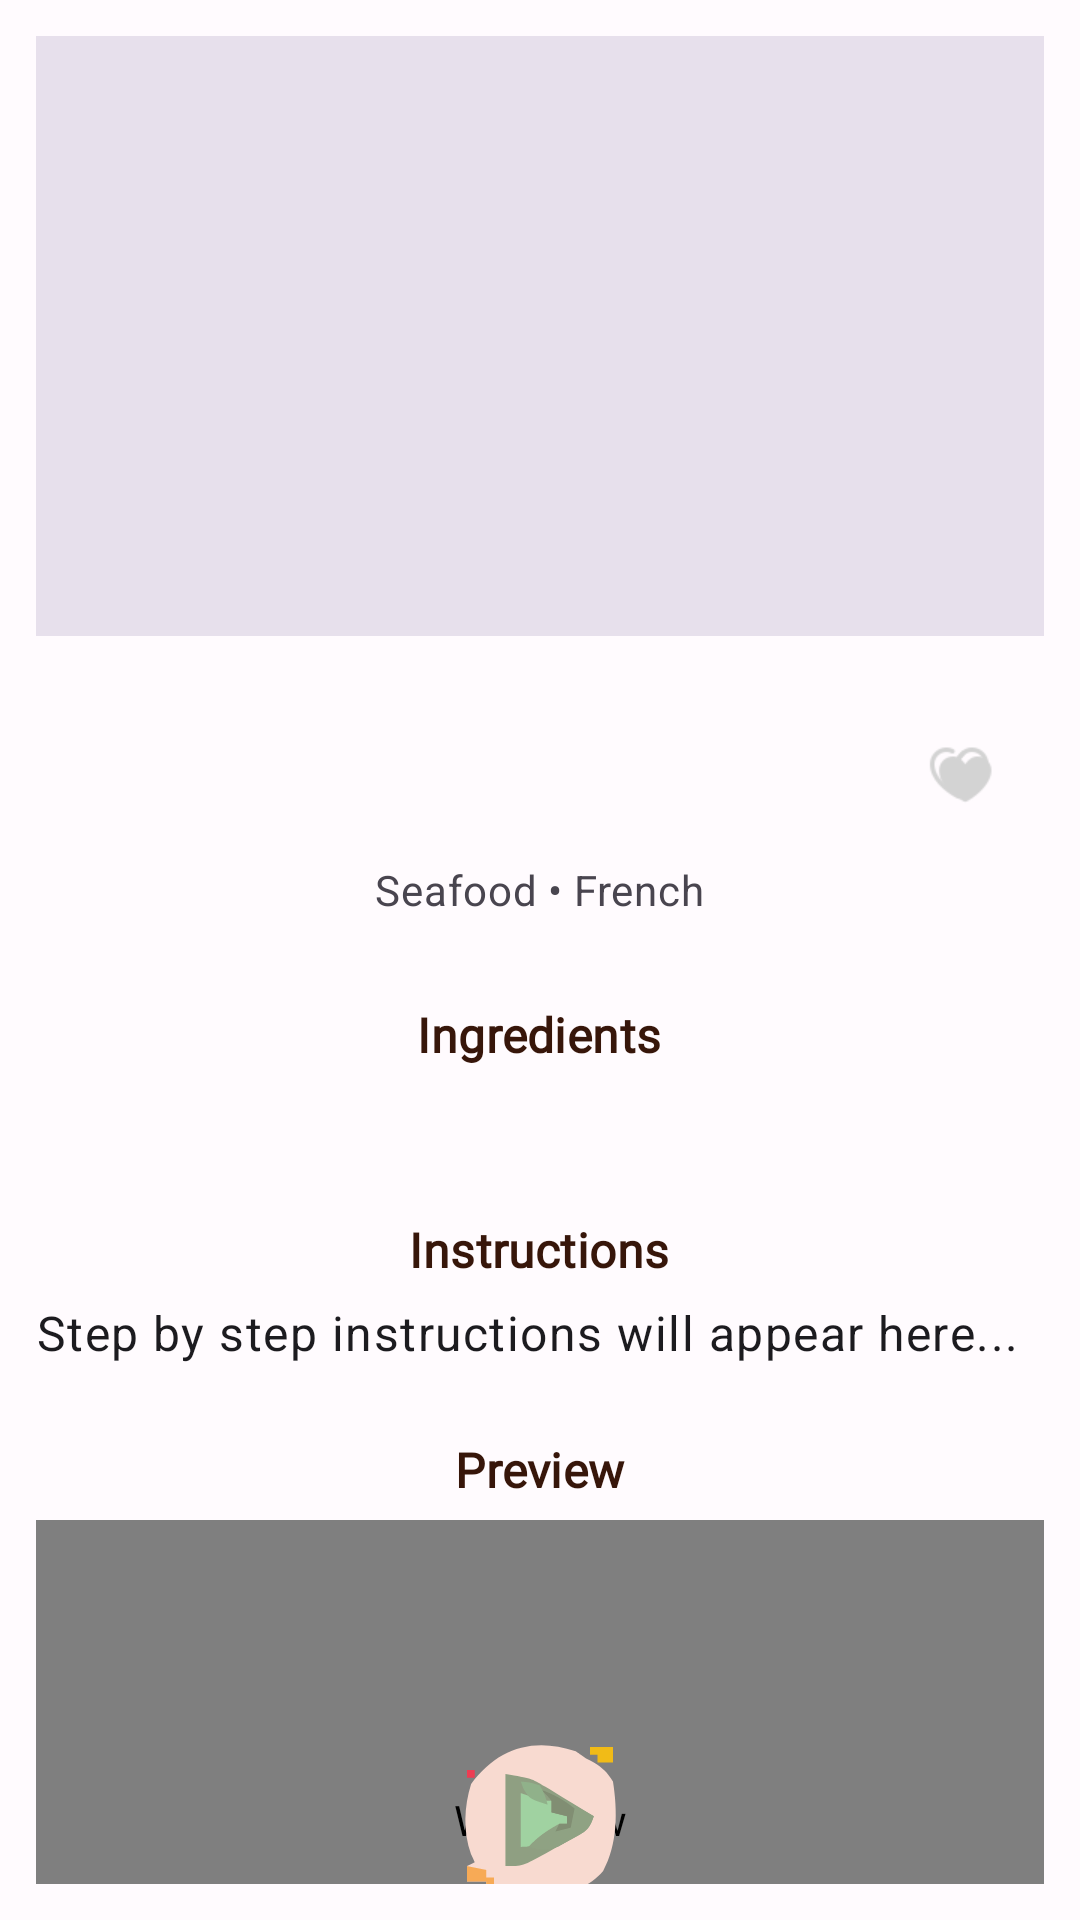

Where icons sit on this 1080x1920 app screen, as (x1, y1, x2, y2):
Add recipe to favorites: (930, 748, 991, 802)
play: (444, 1745, 636, 1916)
